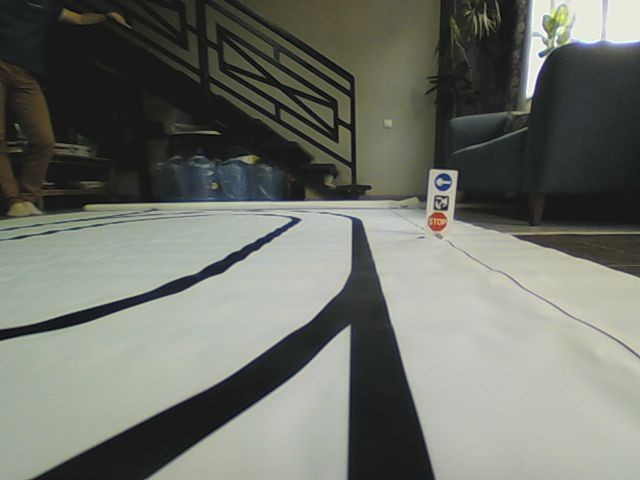Stop: (427, 211, 447, 232)
